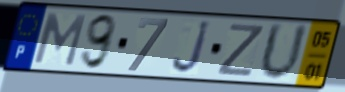7: (126, 16, 171, 73)
9: (77, 13, 119, 72)
J: (170, 19, 213, 76)
M: (30, 11, 89, 69)
U: (257, 21, 311, 84)
Z: (215, 22, 268, 79)
